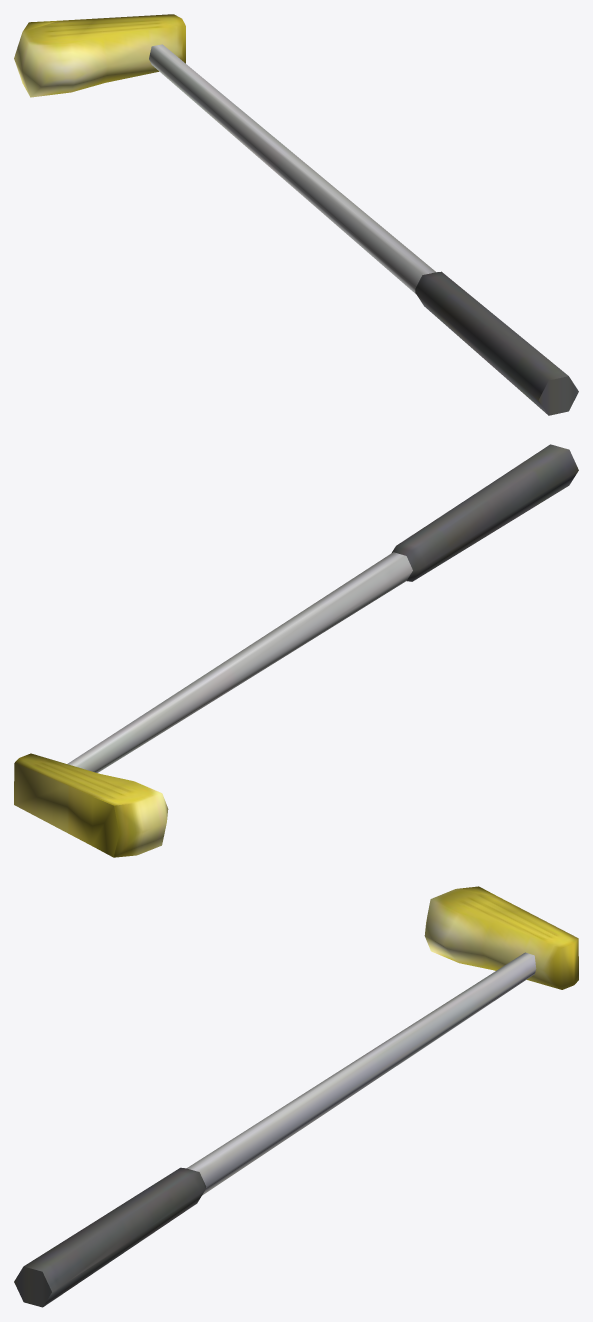
The model's file is putter.glb.
3 renders of one model, top to bottom at view 1: azimuth 30°, elevation 25°; view 2: azimuth 150°, elevation 25°; view 3: azimuth 330°, elevation 25°, orthographic.
Parts seen in each view (by area): view 1: putter; view 2: putter; view 3: putter.
Boxes of the visible parts, x1,y1,x2,y2 form: putter: (14, 14, 578, 415); putter: (14, 444, 578, 857); putter: (14, 886, 578, 1307).
Size of the model in its own units: 0.3898 by 0.126 by 2.15.
Materials: 1 (1 with a texture image).
